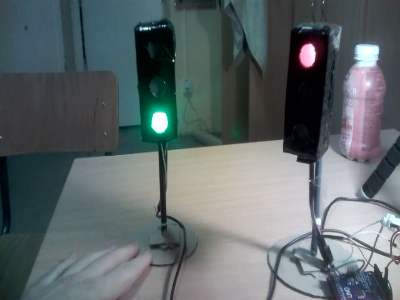trafficlight_green: (141, 26, 177, 139)
trafficlight_red: (289, 27, 335, 155)
